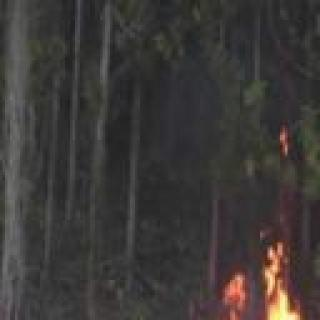fire: (179, 260, 320, 320)
